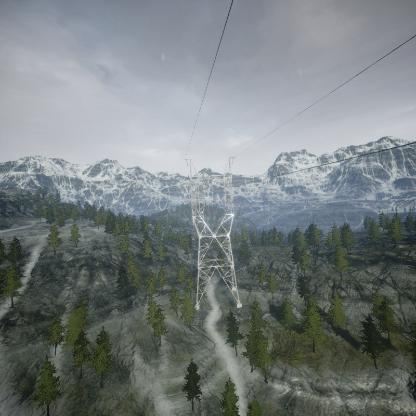tower: (185, 155, 245, 312)
